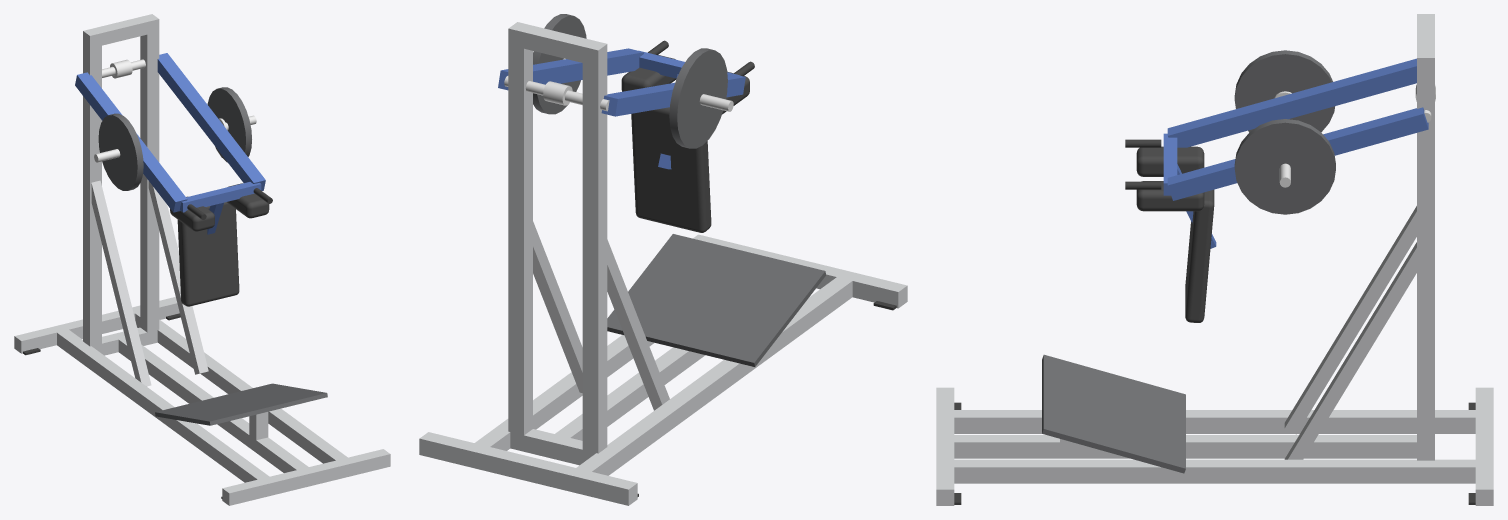
The picture shows the model from 3 angles, left to right: view 1: azimuth 30°, elevation 25°; view 2: azimuth 150°, elevation 25°; view 3: azimuth 270°, elevation 25°; orthographic projection. The views are drawn at different scales.
Parts seen in each view (by area): view 1: base, frame, lever, lever_bar (×2), upright_right, upright_left, backrest_pad, foot_plate, shoulder_pad (×2), top_crossbar, platform; view 2: base, foot_plate, upright_left, upright_right, backrest_pad, frame, lever, lever_bar (×2), top_crossbar, shoulder_pad, lever_axle; view 3: base, lever, foot_plate, lever_bar (×2), frame, upright_right, shoulder_pad (×2), backrest_pad.
Part boxes in pixels (x1,y1,x2,y2): base: [14, 297, 390, 505]; frame: [79, 180, 208, 386]; lever: [98, 87, 261, 234]; lever_bar (×2): [75, 53, 265, 212]; upright_right: [140, 14, 159, 344]; upright_left: [83, 28, 101, 353]; backrest_pad: [177, 202, 239, 306]; foot_plate: [155, 383, 327, 425]; shoulder_pad (×2): [170, 183, 269, 231]; top_crossbar: [92, 17, 153, 46]; platform: [249, 412, 268, 442]; base: [419, 234, 907, 505]; foot_plate: [607, 234, 825, 366]; upright_left: [582, 40, 607, 462]; upright_right: [508, 22, 532, 450]; backrest_pad: [631, 107, 711, 232]; frame: [503, 221, 669, 465]; lever: [533, 14, 739, 169]; lever_bar (×2): [498, 48, 745, 116]; top_crossbar: [516, 24, 598, 62]; shoulder_pad: [621, 55, 676, 91]; lever_axle: [504, 76, 609, 111]; base: [936, 387, 1493, 505]; lever: [1163, 50, 1335, 248]; foot_plate: [1042, 354, 1185, 473]; lever_bar (×2): [1167, 58, 1428, 200]; frame: [1284, 206, 1434, 463]; upright_right: [1417, 50, 1434, 460]; shoulder_pad (×2): [1136, 146, 1204, 211]; backrest_pad: [1185, 189, 1214, 322].
Size of the model in its own units: 1.07 by 2.05 by 2.47.
